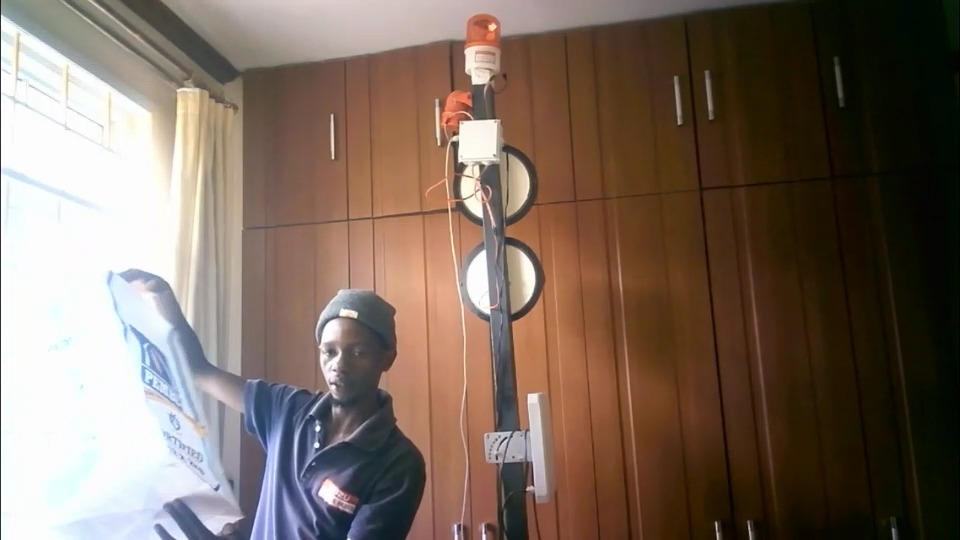wheat_flour_blue_label: (68, 257, 238, 538)
